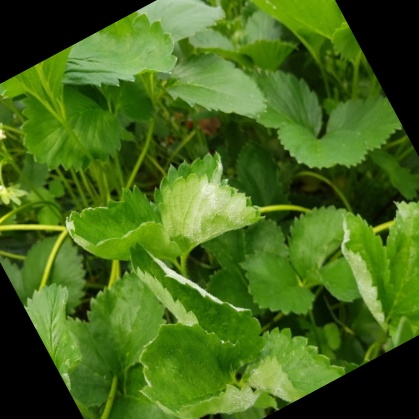Powdery_Leaf: (112, 200, 237, 371), (61, 288, 236, 404), (73, 145, 179, 255), (301, 276, 388, 404), (159, 150, 257, 258), (323, 289, 405, 398), (154, 343, 263, 418)
